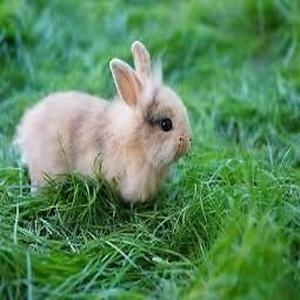rabbit: (23, 41, 194, 206)
